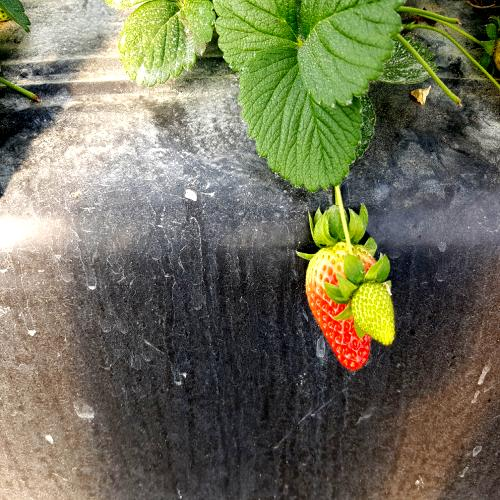partially-ripe: (306, 226, 380, 382)
